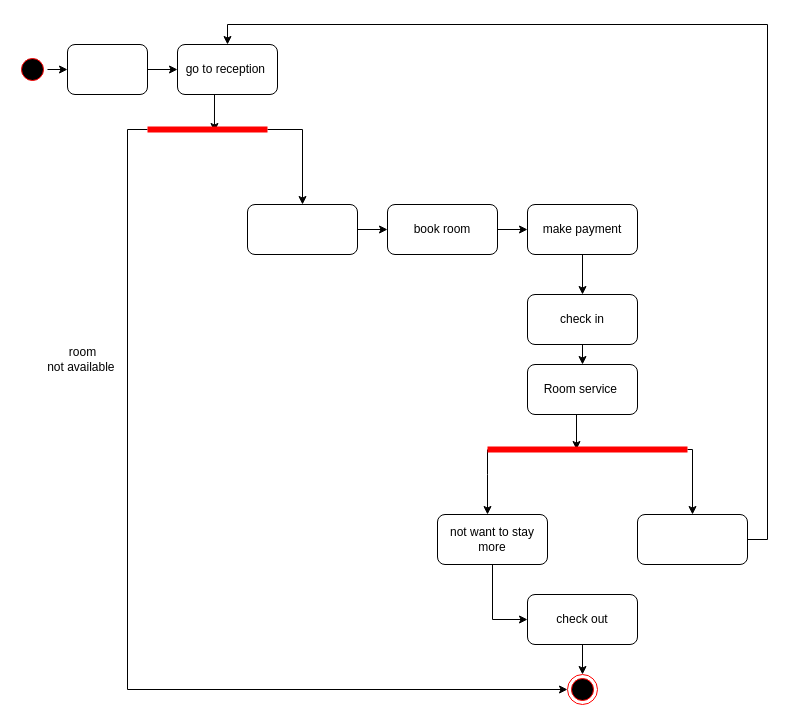
Image size: 793x722. Some labels were removed from this diagram. Here are the shapes that lost their labels. From the top down, the box of each, then its label:
(66, 44, 148, 94): Enter Hotel
(246, 204, 358, 254): check rooms is available
(636, 514, 748, 564): want to stay more
